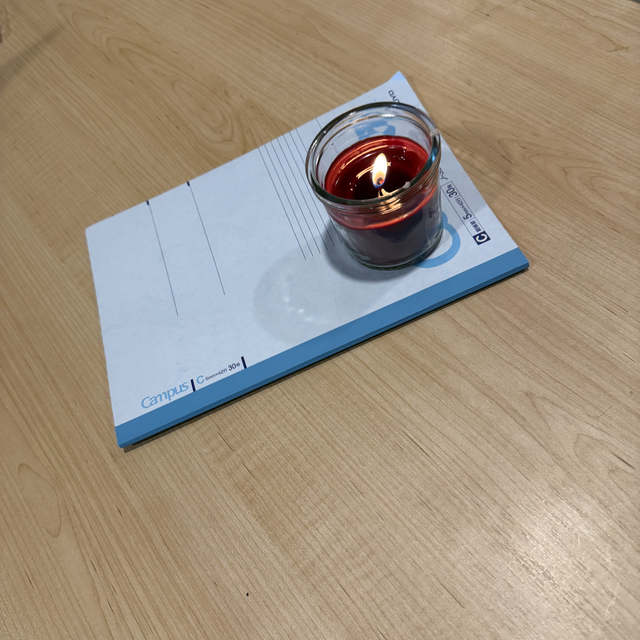Candle: (305, 103, 451, 266)
Paper: (75, 75, 530, 445)
